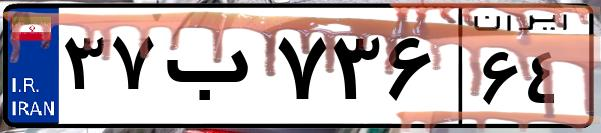3: (330, 28, 385, 110), (57, 26, 110, 100)
4: (525, 38, 570, 115)
6: (385, 28, 445, 110), (475, 38, 525, 113)
7: (270, 28, 330, 110), (110, 28, 158, 98)
ب: (158, 20, 270, 120)
